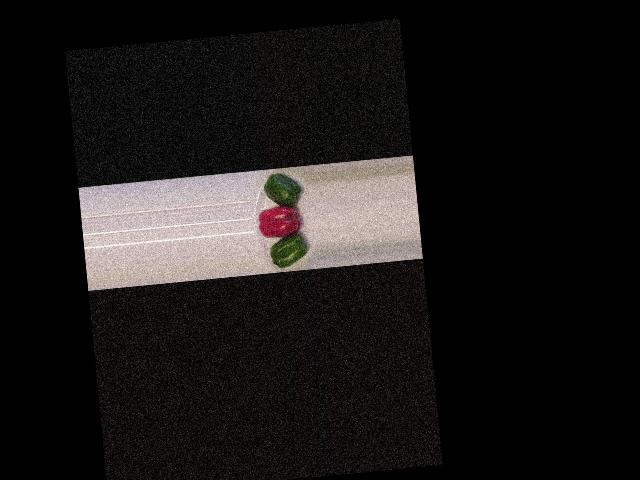bell_pepper: (258, 168, 306, 209)
